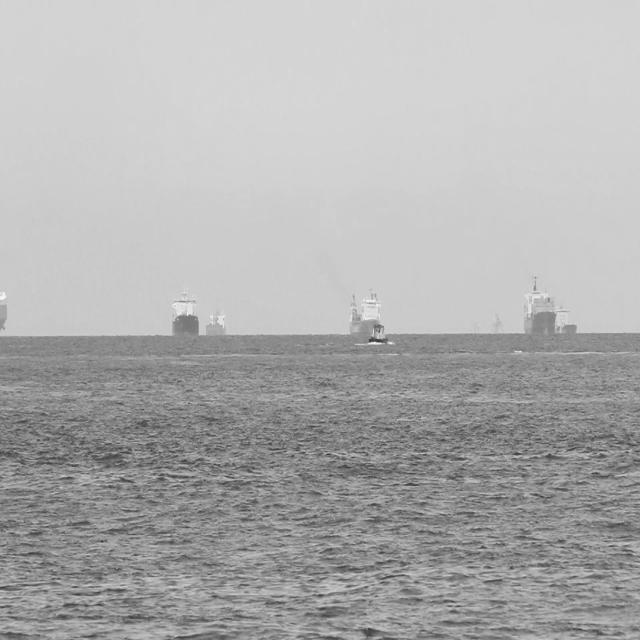ship: (342, 286, 377, 343), (166, 283, 199, 343), (520, 272, 550, 338), (550, 301, 576, 342), (204, 308, 228, 346), (365, 319, 391, 349), (488, 311, 506, 338)
